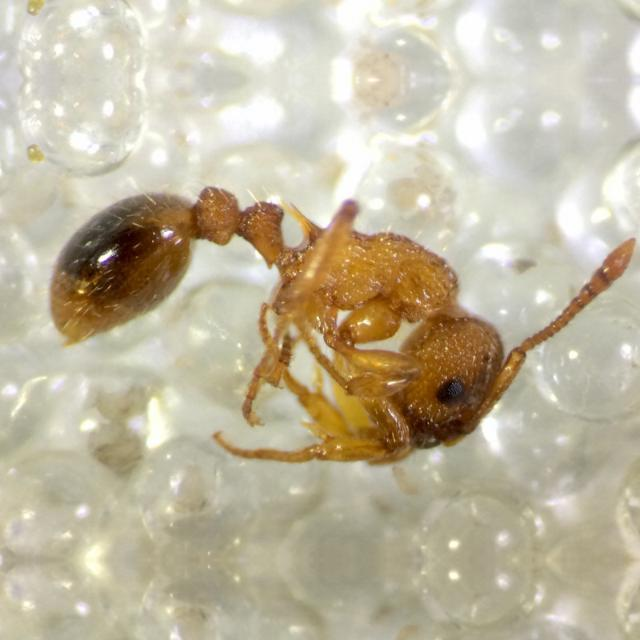Myrmica: (11, 128, 616, 468)
